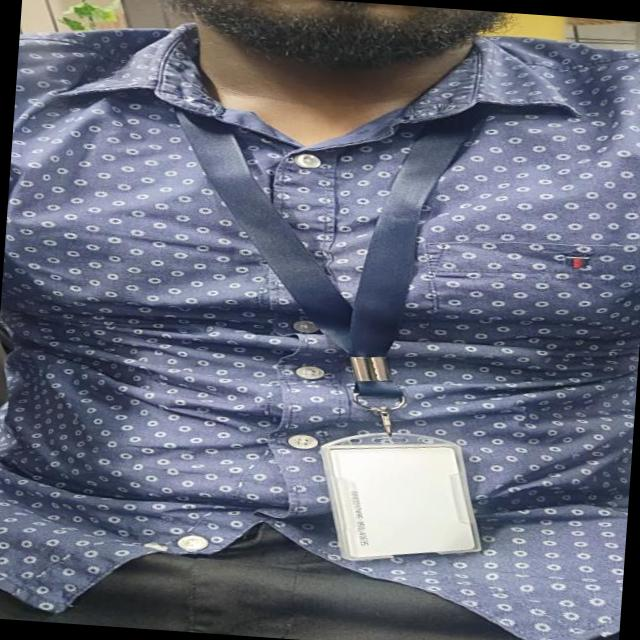id_card: (150, 58, 508, 576)
